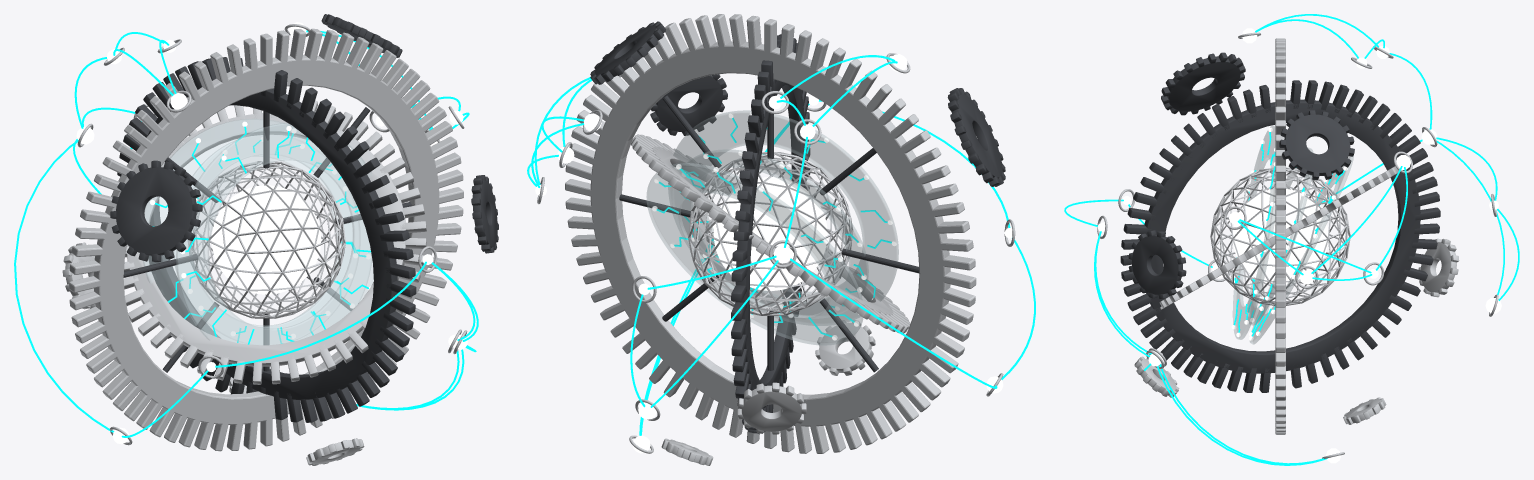
The model's file is automation_core.glb.
The picture shows the model from 3 angles, left to right: view 1: azimuth 30°, elevation 25°; view 2: azimuth 150°, elevation 25°; view 3: azimuth 270°, elevation 25°; orthographic projection. The views are drawn at different scales.
Parts seen in each view (by area): view 1: GearRingA, GearRingB, GearRingC, GlassPlate2, CoreShell, GlassPlate1, GlassPlate0, CoreGlow, SatGear2, SatGear4, SatGear0, Path7_14 (+4 smaller); view 2: GearRingA, GlassPlate2, GlassPlate0, GearRingB, CoreShell, GearRingC, GlassPlate1, CoreGlow, SatGear2, SatGear4, SatGear1, SatGear3 (+6 smaller); view 3: GearRingB, CoreShell, CoreGlow, GearRingA, SatGear0, SatGear2, SatGear4, GlassPlate2, GearRingC, SatGear1, GlassPlate0, GlassPlate1 (+3 smaller).
Part boxes in pixels (<box>): GearRingA: <box>69,28,463,451</box>; GearRingB: <box>117,57,416,422</box>; GearRingC: <box>123,100,426,384</box>; GlassPlate2: <box>176,123,373,344</box>; CoreShell: <box>188,161,345,318</box>; GlassPlate1: <box>173,134,360,344</box>; GlassPlate0: <box>143,119,371,343</box>; CoreGlow: <box>211,185,321,294</box>; SatGear2: <box>110,160,202,262</box>; SatGear4: <box>471,175,498,253</box>; SatGear0: <box>321,14,402,57</box>; Path7_14: <box>14,140,114,432</box>; GearRingA: <box>565,14,976,453</box>; GlassPlate2: <box>668,110,898,325</box>; GlassPlate0: <box>646,163,862,345</box>; GearRingB: <box>731,34,810,433</box>; CoreShell: <box>688,152,853,315</box>; GearRingC: <box>631,134,910,333</box>; GlassPlate1: <box>673,149,868,318</box>; CoreGlow: <box>713,177,827,290</box>; SatGear2: <box>947,88,1005,186</box>; SatGear4: <box>650,74,727,135</box>; SatGear1: <box>737,382,806,434</box>; SatGear3: <box>815,320,875,375</box>; GearRingB: <box>1120,80,1440,392</box>; CoreShell: <box>1210,167,1350,305</box>; CoreGlow: <box>1232,189,1328,284</box>; GearRingA: <box>1275,38,1285,434</box>; SatGear0: <box>1279,110,1354,180</box>; SatGear2: <box>1161,52,1245,115</box>; SatGear4: <box>1128,230,1186,299</box>; GlassPlate2: <box>1233,126,1274,339</box>; GearRingC: <box>1159,166,1402,309</box>; SatGear1: <box>1418,238,1459,297</box>; GlassPlate0: <box>1250,155,1353,344</box>; GlassPlate1: <box>1247,148,1313,325</box>.
Bounding box in the file's own units: 2.77 × 2.68 × 3.02.
